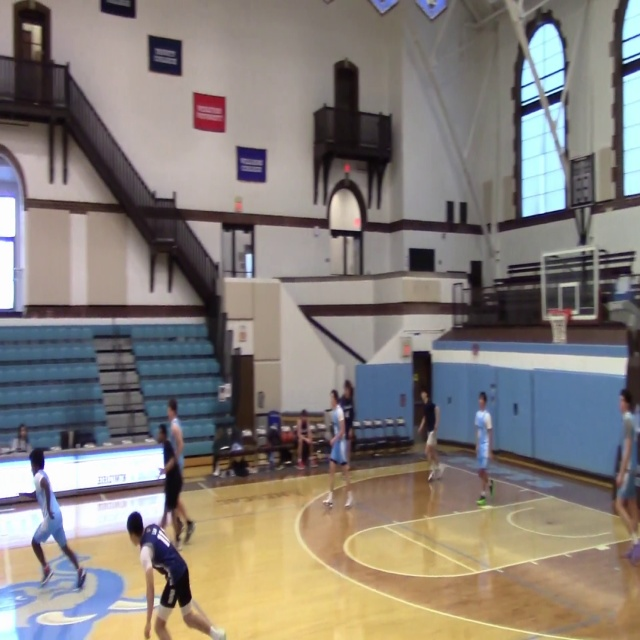Basketball: (343, 163, 351, 173)
